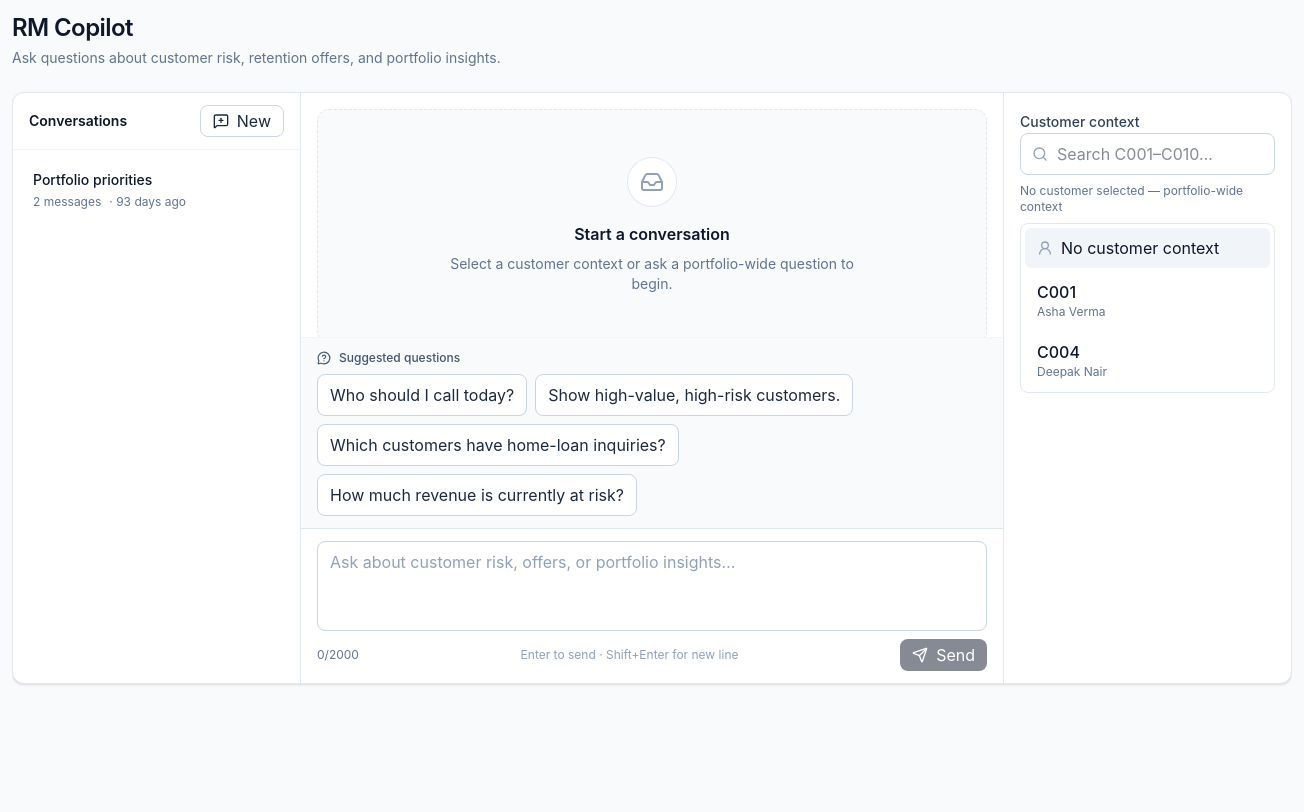
Test: RM Copilot chat › reuses existing conversation from sidebar
Step 1. Click the button "Portfolio priorities 2 messages · 93 days ago" → point(93, 180), box [21, 158, 292, 222]
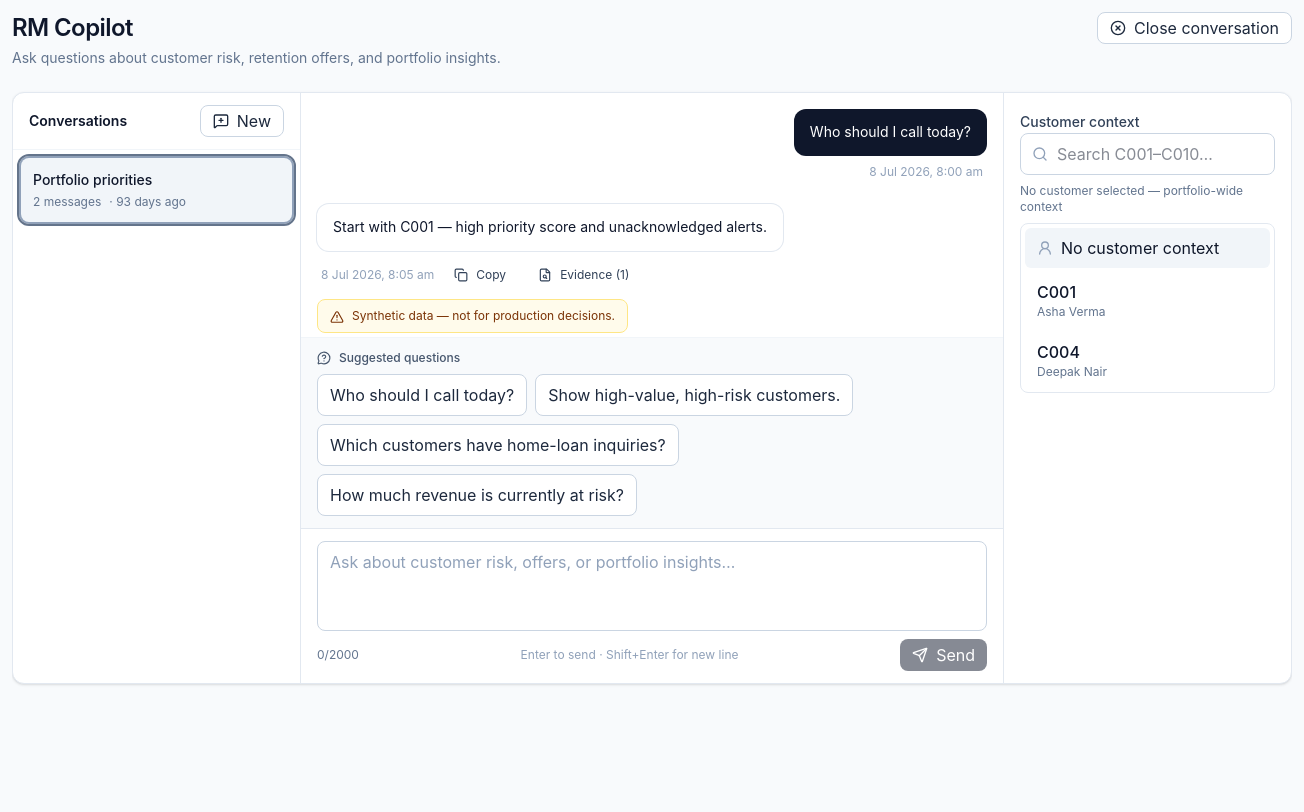
Expected: the element named "Your message" shows "Who should I call today?", [810, 123, 971, 140]
